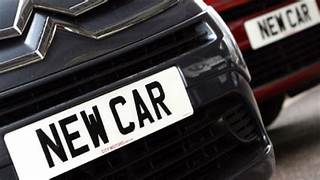number_plate: (4, 66, 193, 171)
